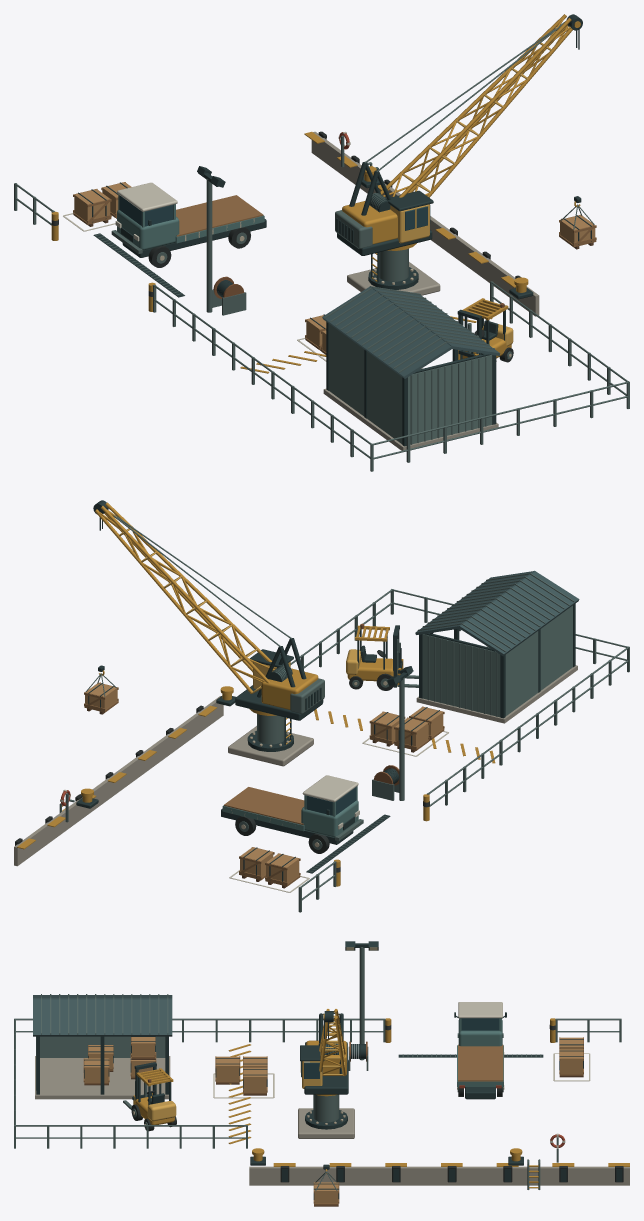
The model's file is cargo-berth.glb.
The picture shows the model from 3 angles, top to bottom: view 1: azimuth 30°, elevation 25°; view 2: azimuth 150°, elevation 25°; view 3: azimuth 270°, elevation 25°; orthographic projection. The views are drawn at different scales.
Parts seen in each view (by area): view 1: CargoBerth, CraneTurntable, QuaysideFlatbed, Forklift, SlungPallet; view 2: CargoBerth, CraneTurntable, QuaysideFlatbed, Forklift, SlungPallet; view 3: CargoBerth, QuaysideFlatbed, CraneTurntable, Forklift, SlungPallet.
Boxes of the visible parts, x1,y1,x2,y2 form: CargoBerth: [14, 131, 629, 471]; CraneTurntable: [335, 14, 582, 255]; QuaysideFlatbed: [111, 182, 266, 267]; Forklift: [457, 298, 513, 362]; SlungPallet: [559, 196, 596, 249]; CargoBerth: [14, 570, 629, 912]; CraneTurntable: [93, 500, 324, 720]; QuaysideFlatbed: [221, 775, 363, 853]; Forklift: [346, 623, 418, 690]; SlungPallet: [84, 665, 118, 714]; CargoBerth: [14, 941, 629, 1189]; QuaysideFlatbed: [454, 1002, 506, 1099]; CraneTurntable: [300, 1009, 348, 1094]; Forklift: [123, 1062, 176, 1131]; SlungPallet: [313, 1164, 339, 1206].
Bounding box in the file's own units: 16.71 × 9.85 × 25.98.
